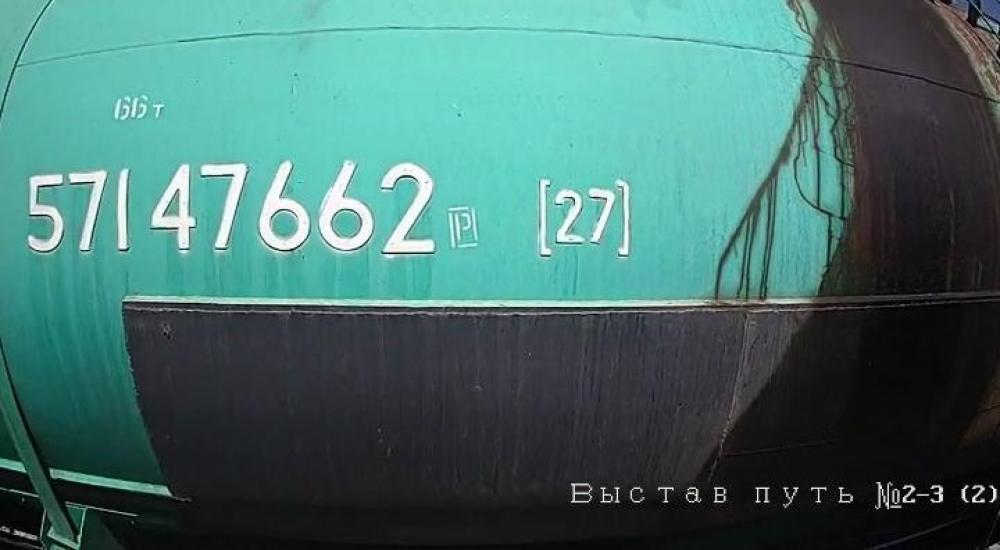Wagon-number: (24, 157, 444, 259)
